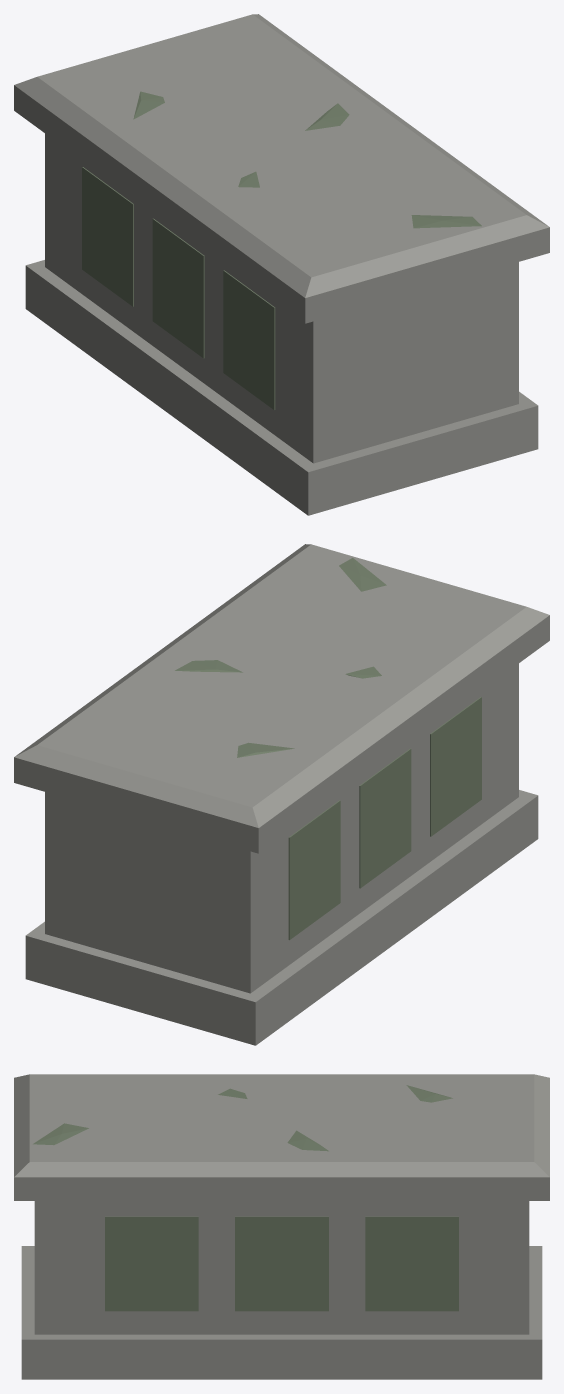
The model's file is ChestTomb.fbx.
3 renders of one model, top to bottom at view 1: azimuth 30°, elevation 25°; view 2: azimuth 150°, elevation 25°; view 3: azimuth 270°, elevation 25°, orthographic. The views are drawn at different scales.
Visible parts, largest first — view 1: ChestTomb; view 2: ChestTomb; view 3: ChestTomb.
Part boxes in pixels (left/top/right/bottom): ChestTomb: left=14, top=14, right=549, bottom=515; ChestTomb: left=14, top=544, right=549, bottom=1045; ChestTomb: left=14, top=1074, right=549, bottom=1379.
Size of the model in its own units: 1 by 0.9497 by 2.06.
